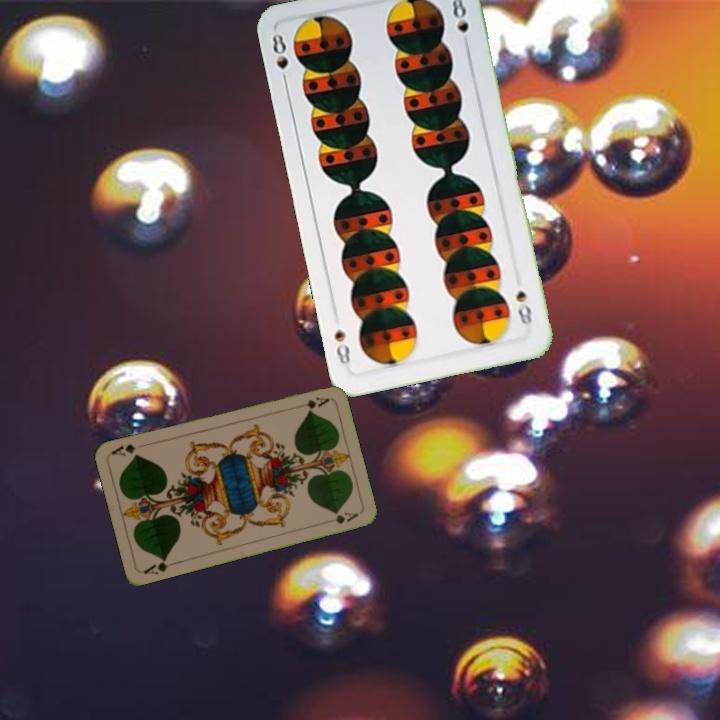GA: (140, 554, 179, 577), (302, 393, 332, 411)
S8: (268, 29, 291, 88), (511, 287, 535, 327)
